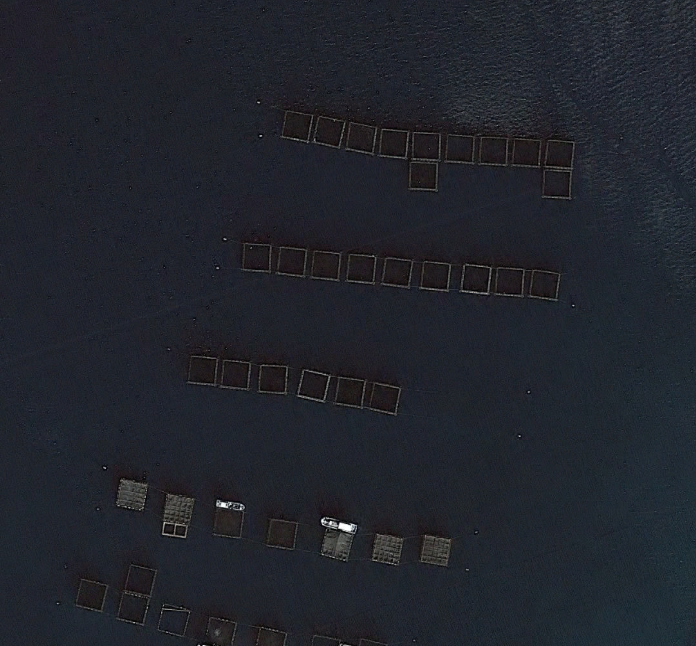ship: (318, 503, 360, 541), (214, 486, 245, 518)
square: (271, 101, 331, 156), (522, 265, 573, 317), (206, 498, 255, 549), (229, 235, 283, 281), (177, 340, 224, 388), (309, 109, 355, 156), (267, 240, 314, 286), (336, 249, 383, 295), (374, 253, 420, 299), (535, 161, 583, 205), (418, 257, 463, 302), (457, 258, 501, 304), (491, 257, 535, 303), (343, 116, 386, 163), (212, 351, 255, 398), (471, 124, 513, 172), (400, 151, 444, 196), (113, 587, 156, 633), (288, 366, 333, 409), (503, 131, 549, 173), (113, 475, 156, 519), (416, 531, 459, 574), (328, 372, 369, 417), (117, 559, 160, 601), (320, 523, 360, 567), (540, 136, 585, 175), (249, 361, 291, 402), (362, 377, 404, 418), (405, 128, 446, 169), (70, 573, 112, 613), (262, 512, 301, 555), (305, 247, 345, 288), (157, 602, 198, 642), (371, 122, 410, 163), (369, 530, 408, 571), (439, 131, 481, 166), (160, 488, 193, 529)
